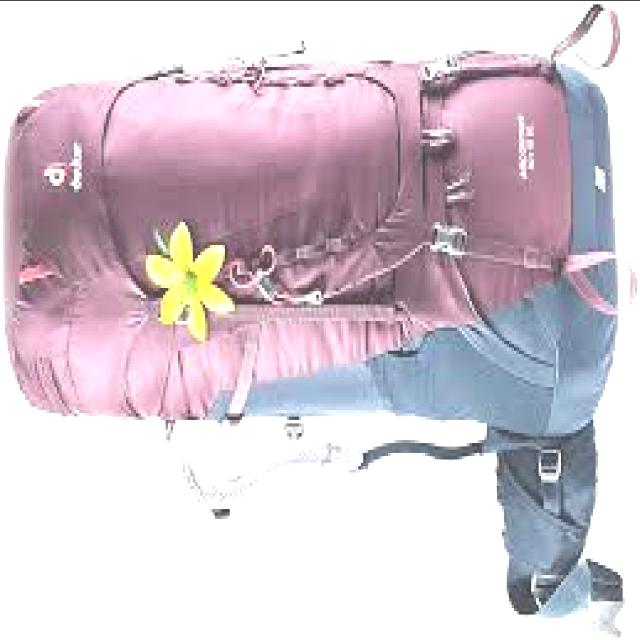backpack: (2, 5, 634, 625)
